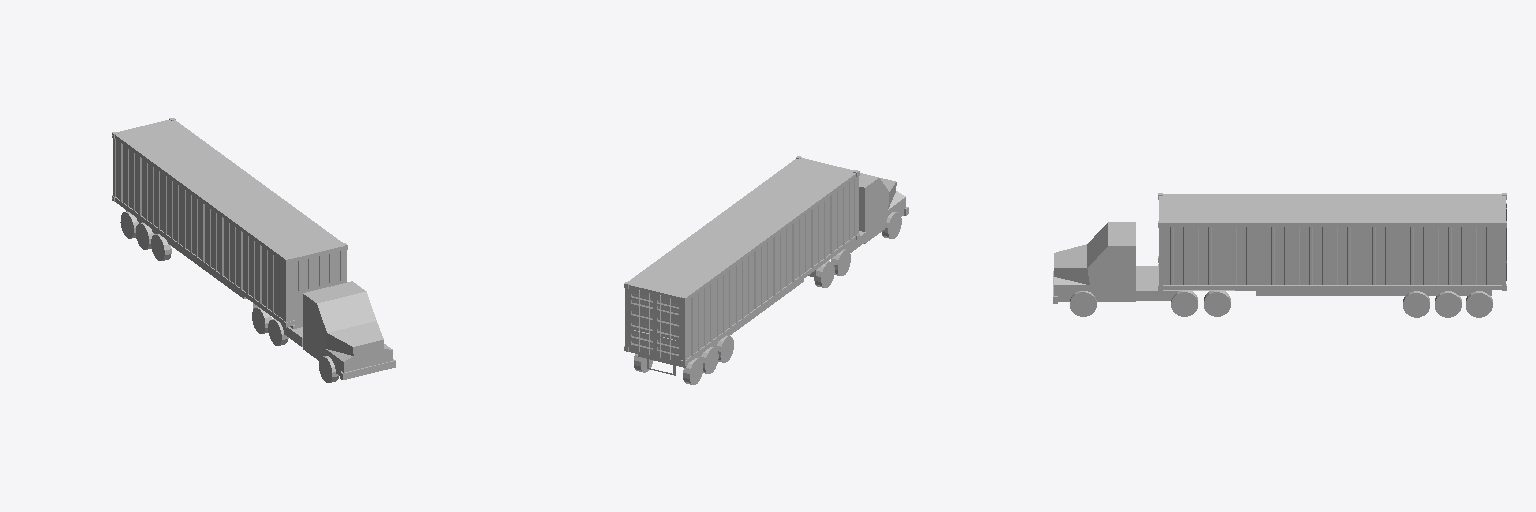
File: car.obj
3 views of the same model, side by side, from view 1: azimuth 30°, elevation 25°; view 2: azimuth 150°, elevation 25°; view 3: azimuth 270°, elevation 25° (orthographic).
Parts seen in each view (by area): view 1: default; view 2: default; view 3: default.
Part boxes in pixels (x1,y1,x2,y2): default: (112, 118, 395, 382); default: (624, 156, 908, 384); default: (1053, 193, 1506, 317).
Bounding box in the file's own units: 2.49 × 3.72 × 15.92.